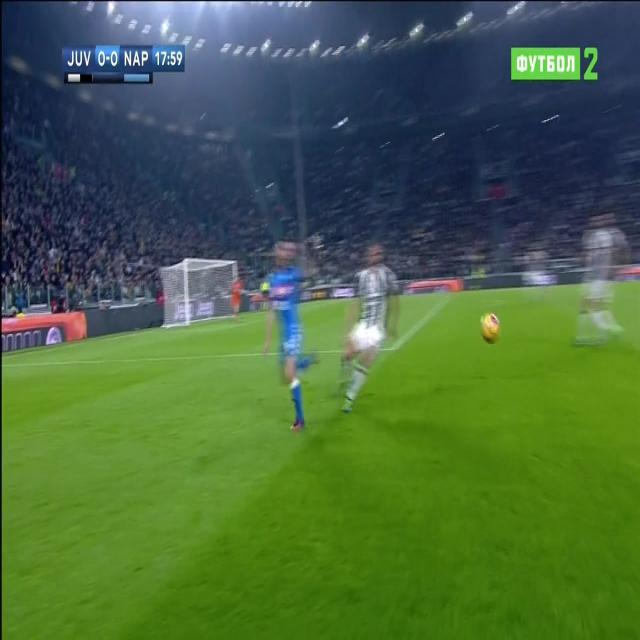Ball: (479, 308, 502, 348)
Goalkeeper: (230, 275, 245, 323)
Player: (260, 232, 324, 436), (338, 242, 401, 419), (571, 210, 630, 348)
